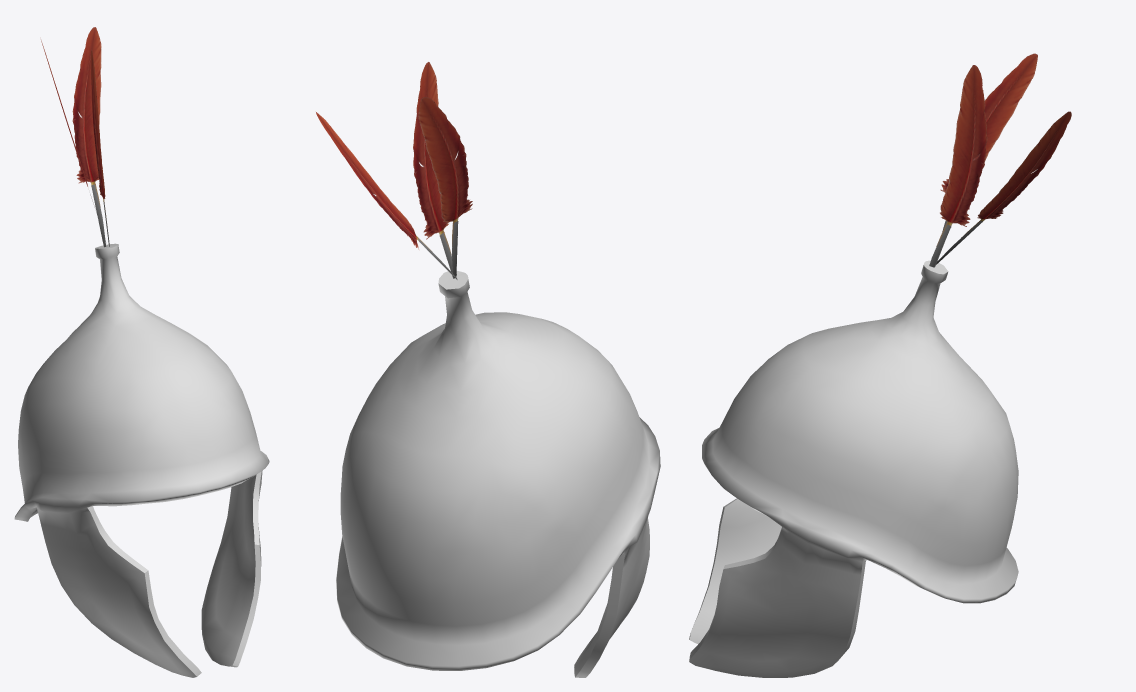
The model's file is Helmet_3.FBX.
The picture shows the model from 3 angles, left to right: view 1: azimuth 30°, elevation 25°; view 2: azimuth 150°, elevation 25°; view 3: azimuth 270°, elevation 25°; orthographic projection. The views are drawn at different scales.
Visible parts, largest first — view 1: Plane002, Plane004, Plane003; view 2: Plane002, Plane005, Plane003, Plane004; view 3: Plane002, Plane003, Plane004, Plane005.
Boxes of the visible parts, x1=… form: Plane002: x1=14, y1=243, x2=269, y2=677; Plane004: x1=72, y1=27, x2=106, y2=247; Plane003: x1=90, y1=50, x2=109, y2=246; Plane002: x1=336, y1=270, x2=660, y2=677; Plane005: x1=418, y1=97, x2=472, y2=278; Plane003: x1=413, y1=62, x2=456, y2=277; Plane004: x1=316, y1=112, x2=457, y2=279; Plane002: x1=689, y1=260, x2=1018, y2=677; Plane003: x1=929, y1=65, x2=987, y2=267; Plane004: x1=936, y1=111, x2=1071, y2=264; Plane005: x1=934, y1=53, x2=1037, y2=267.
Size of the model in its own units: 19.98 by 50.83 by 31.94.
